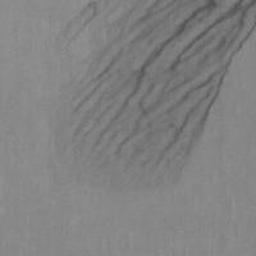Water spot: (46, 0, 256, 201)
